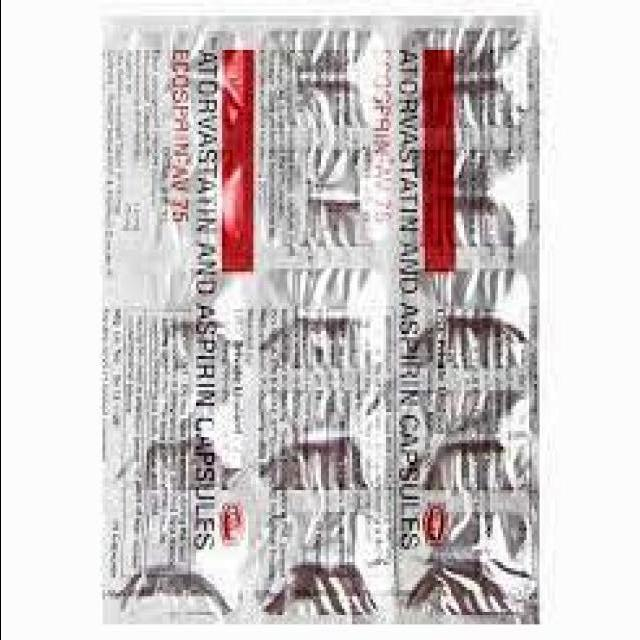authentic: (91, 0, 548, 640)
